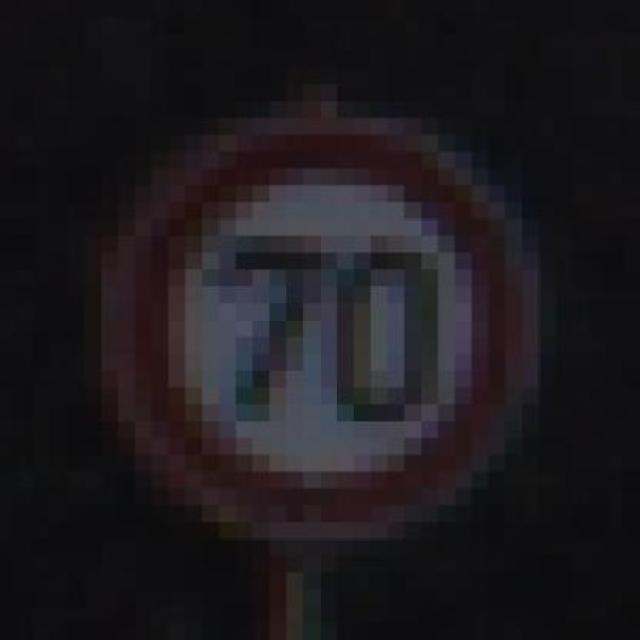forb_speed_over_70: (122, 130, 531, 528)
